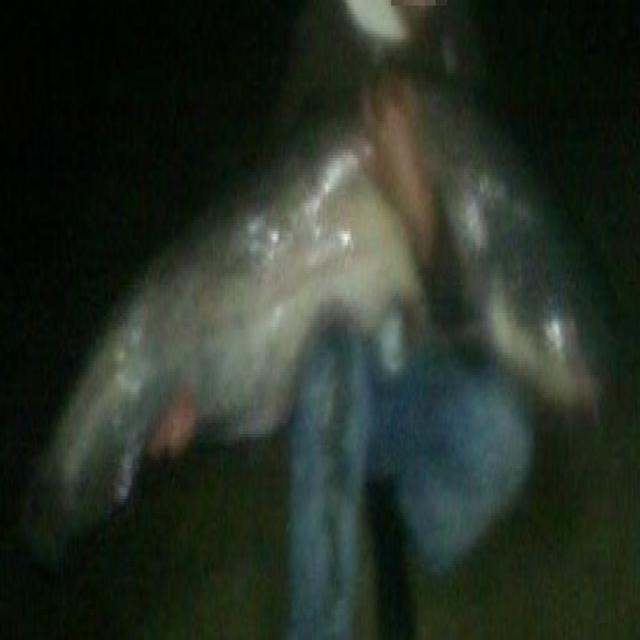Catfish: (16, 36, 630, 615)
